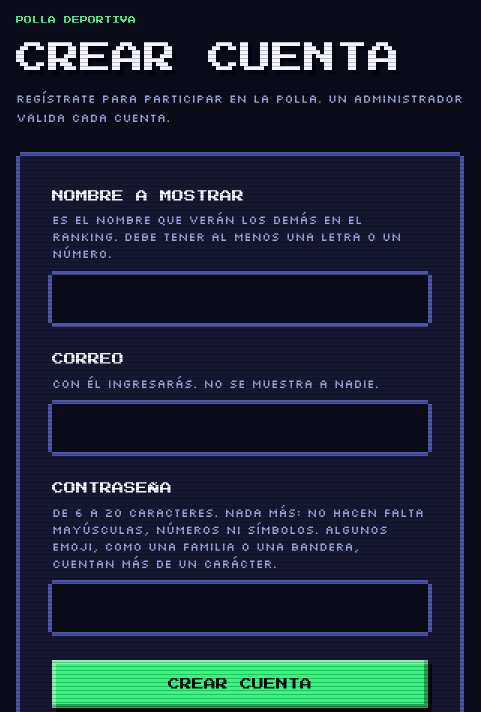
Test: sign up (/registro) › 409 EMAIL_TAKEN: the email field says so, with a way to sign in
Type "Ana" into the field labelled "Nombre a mostrar" at (240, 299), box [52,275,428,323]
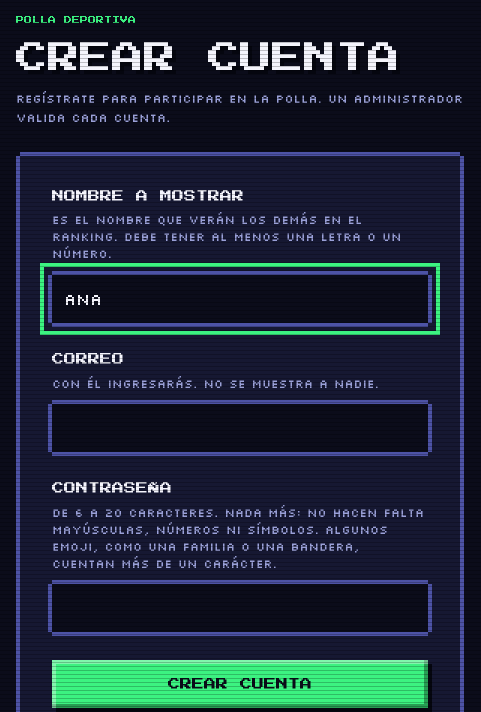
Type "ana@liga.test" into the field labelled "Correo" at (240, 428), box [52,404,428,452]
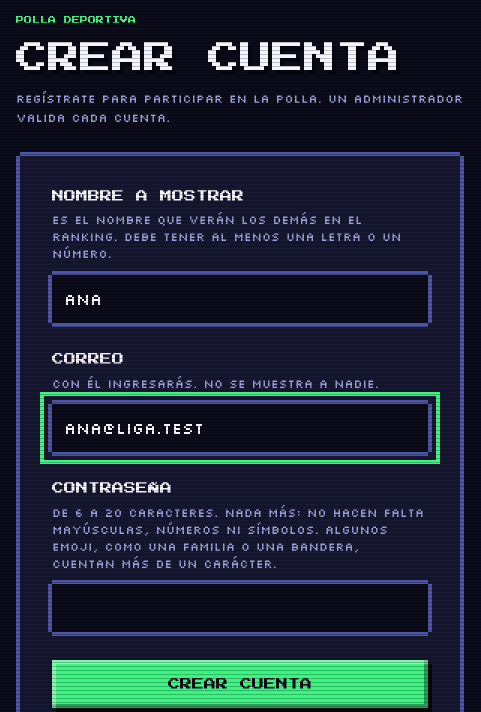
Type "clave-segura-1" into the password field labelled "Contraseña" at (240, 608), box [52,584,428,632]
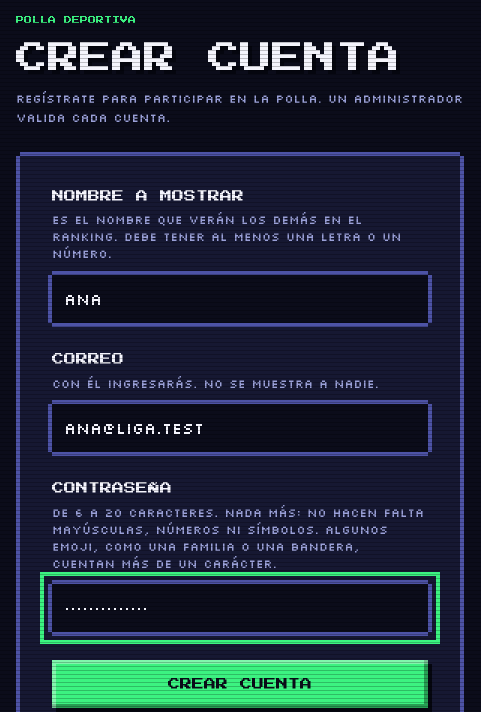
Click the button "Crear cuenta" at (240, 684), box [52,660,428,708]
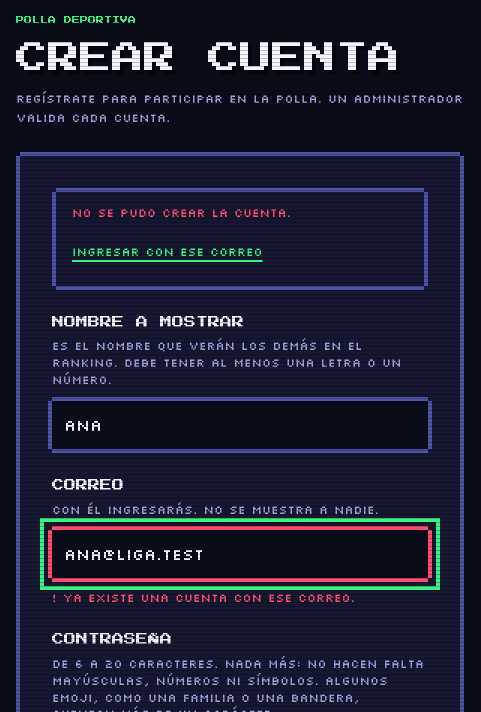
Expected: the link "Ingresar con ese correo" is shown, [72,244,262,259]
